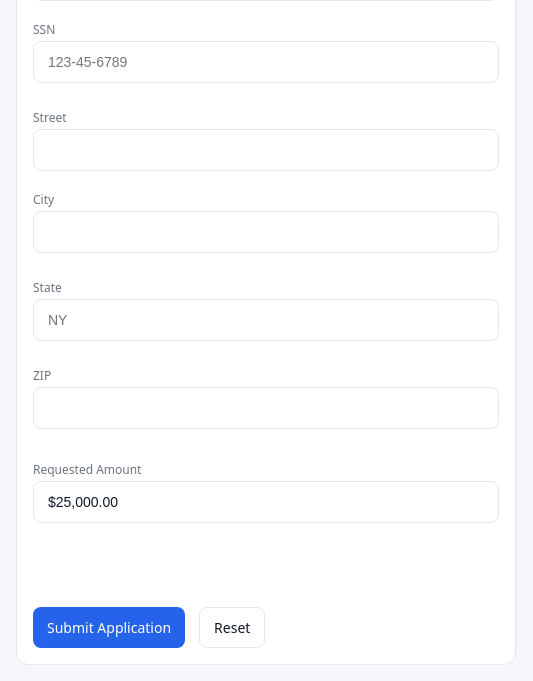
Scenario: Loan Application Form › shows validation errors when submitting empty form
(page scrolled)
Click the button "Submit Application": click(109, 627) [33,607,185,648]
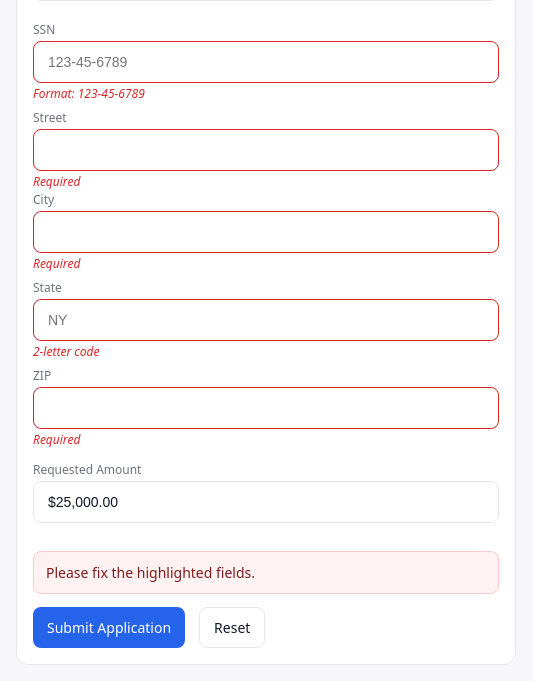
Check: the text "Please fix the highlighted fields." is shown, box [33,551,499,594]
